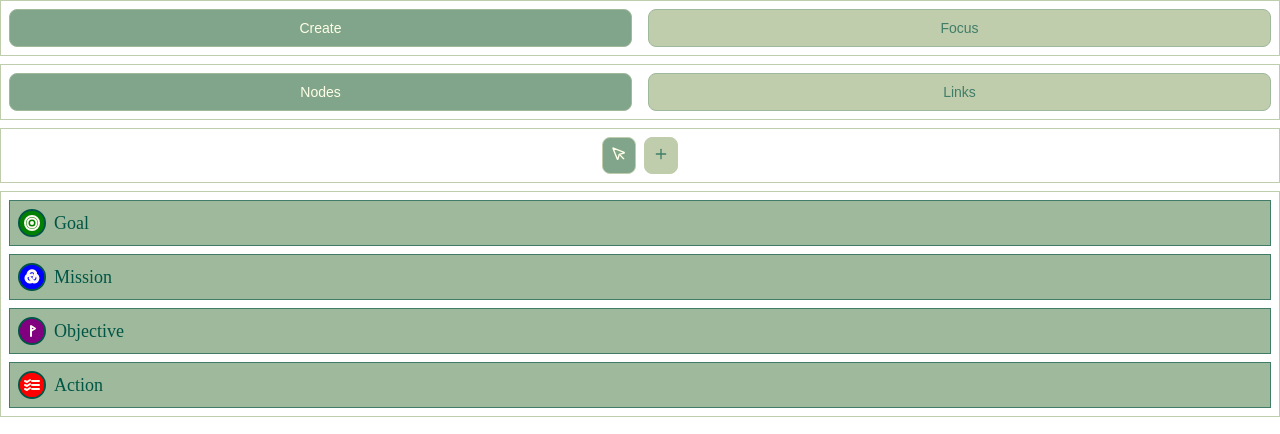
Test: NarrativeStrategyControls › renders create controls and switches to focus options
Expected: the text "Goal" is shown, [54, 212, 89, 234]
Click the button "Focus" at (960, 28), box [648, 9, 1271, 47]
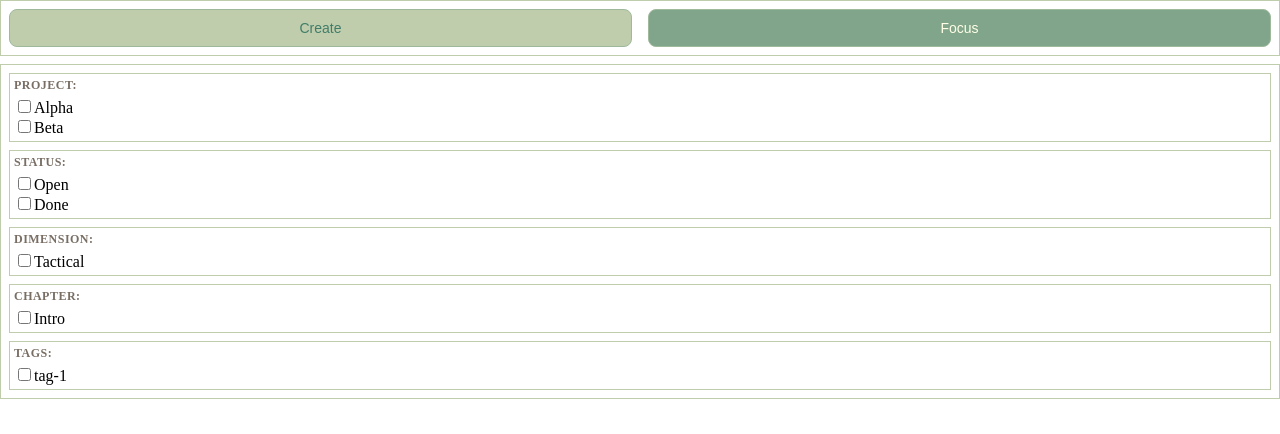
Expected: the text "Project:" is shown, [14, 78, 77, 92]
Expected: the text "Status:" is shown, [14, 155, 66, 169]
Expected: the text "Alpha" is shown, [34, 99, 73, 116]
